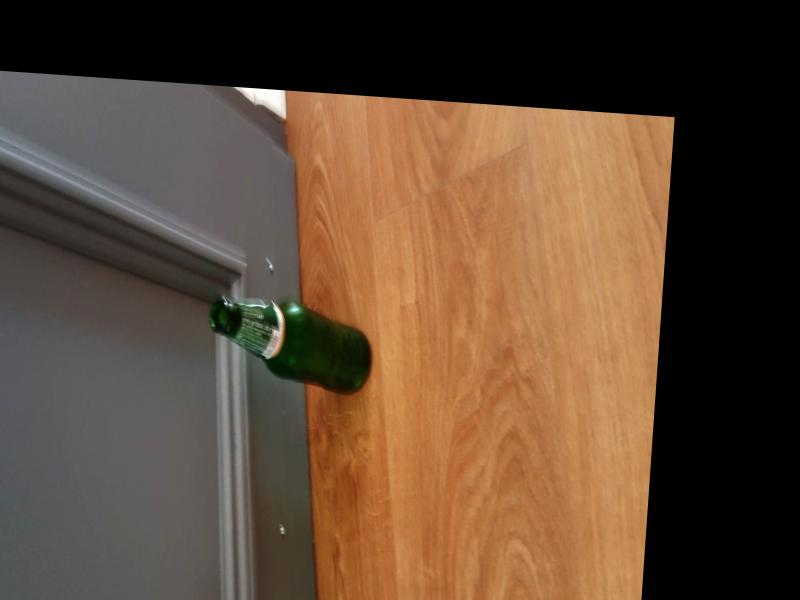Beer: (208, 298, 374, 393)
